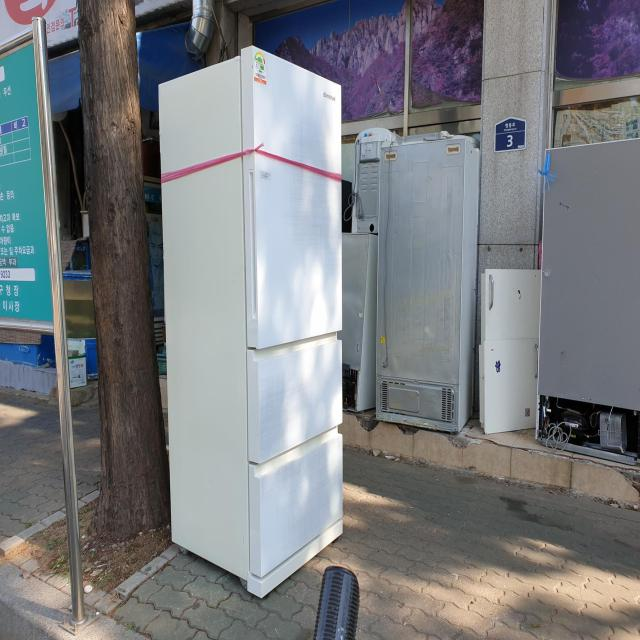refrigerator: (157, 42, 346, 602)
